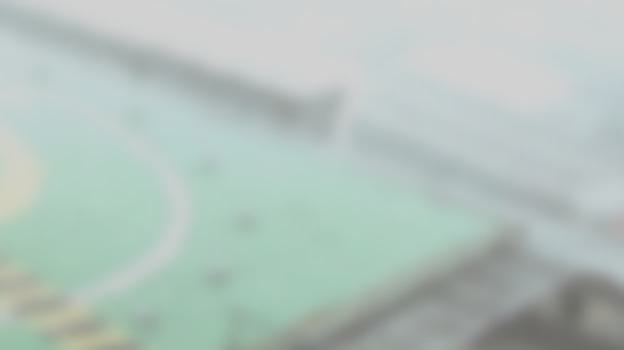Apron: (1, 110, 58, 247)
